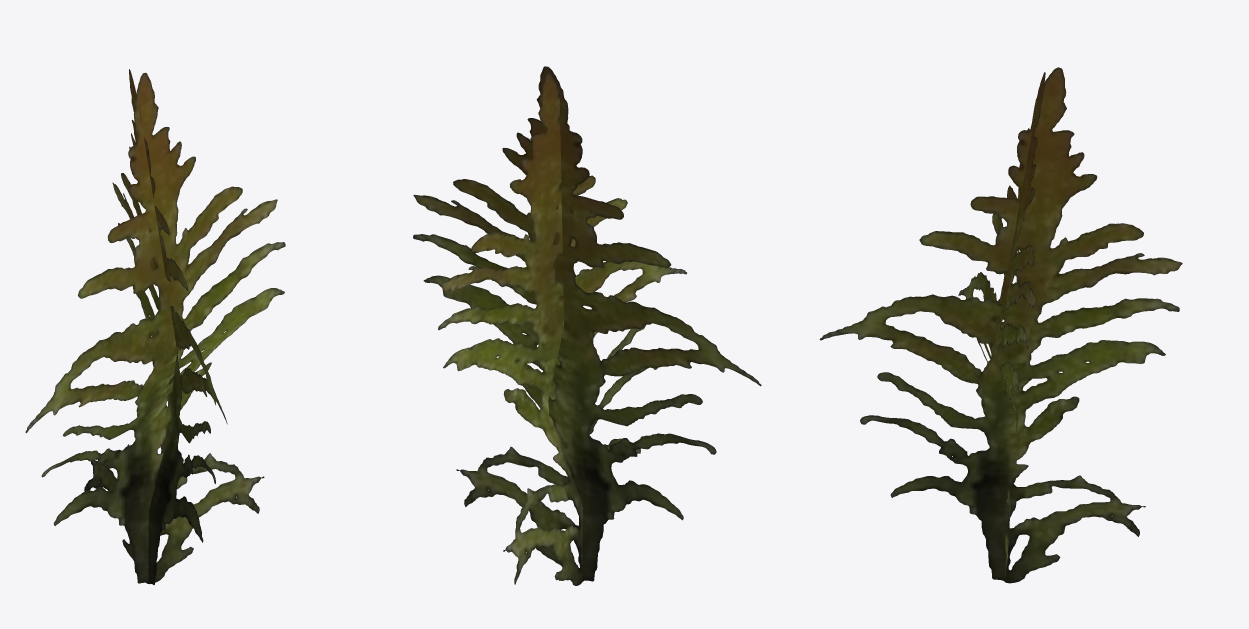
File: moss_01_b_LOD1.glb
3 renders of one model, left to right at view 1: azimuth 30°, elevation 25°; view 2: azimuth 150°, elevation 25°; view 3: azimuth 270°, elevation 25°, orthographic. The views are drawn at different scales.
Parts seen in each view (by area): view 1: moss_01_b_LOD1__lod0; view 2: moss_01_b_LOD1__lod0; view 3: moss_01_b_LOD1__lod0.
Part boxes in pixels (left/top/right/bottom): moss_01_b_LOD1__lod0: left=25, top=69, right=285, bottom=584; moss_01_b_LOD1__lod0: left=413, top=66, right=761, bottom=585; moss_01_b_LOD1__lod0: left=819, top=67, right=1182, bottom=583.
Size of what is drawn, in the model's own units: 0.0095 by 0.0148 by 0.00952.
1 material, 1 textured.
